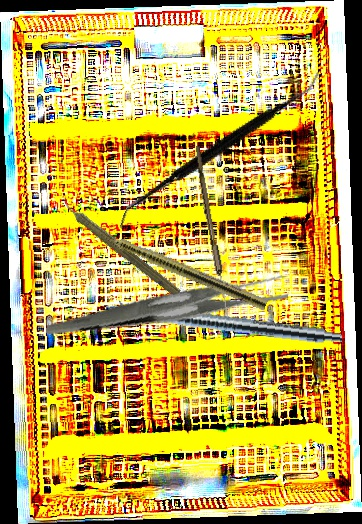Dressing Forceps: (45, 244, 292, 366)
Handpiece: (83, 221, 270, 312), (54, 192, 185, 300), (116, 298, 344, 347)
Spatula Surgical: (118, 24, 322, 277)
Surgical Spoon: (191, 145, 233, 319)
